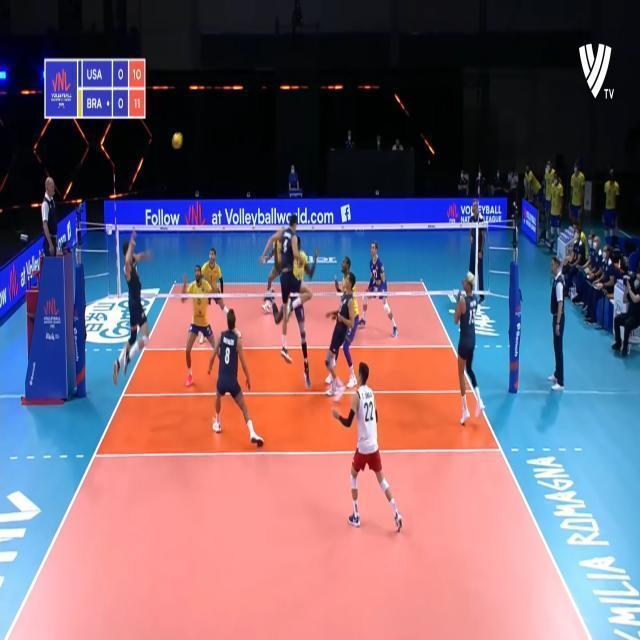volleyball: (172, 132, 182, 148)
